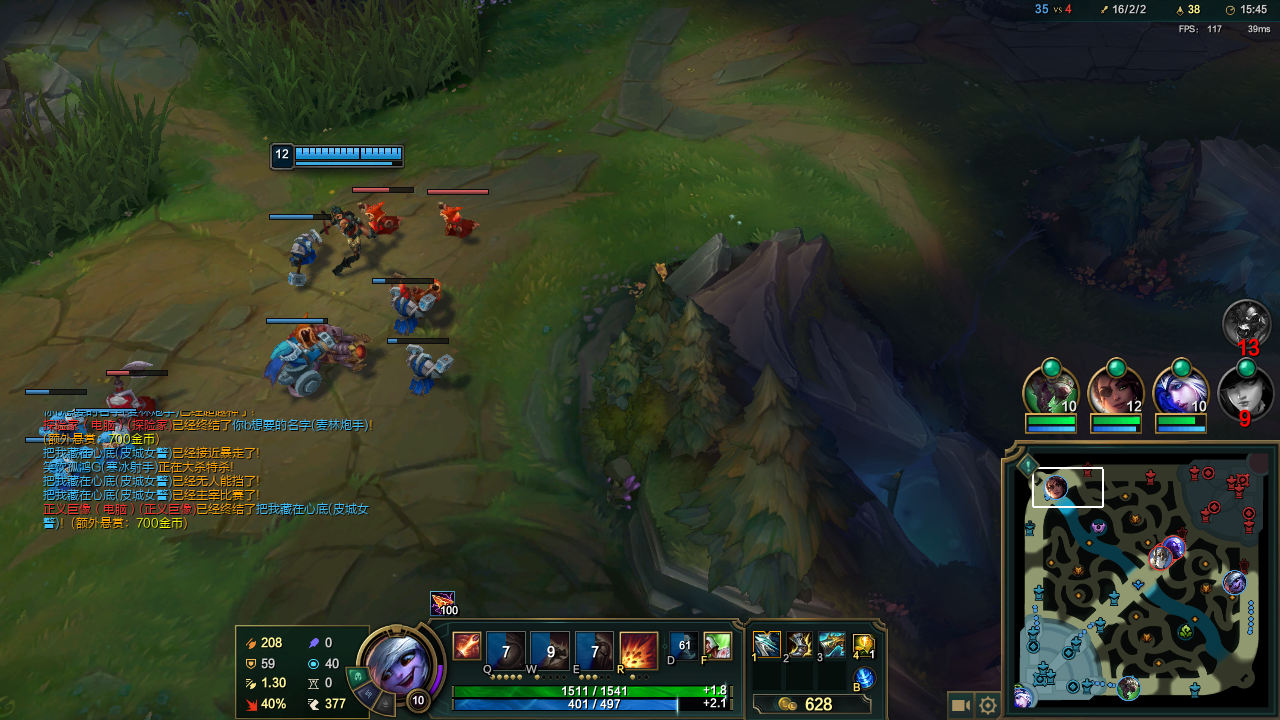DFXB: (425, 195, 491, 248), (110, 387, 162, 422), (359, 198, 403, 238)
WFXB: (257, 334, 342, 395), (398, 342, 454, 402), (382, 287, 440, 338), (283, 229, 329, 271)
